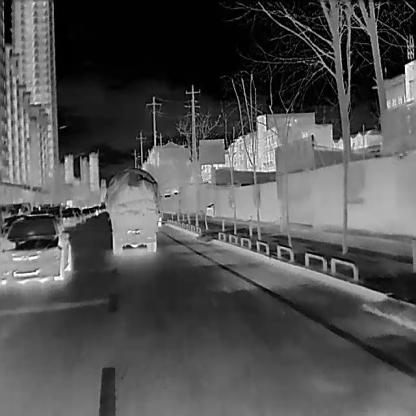car: (0, 212, 71, 284), (60, 207, 76, 226), (206, 201, 216, 217), (81, 207, 91, 218)
truck: (103, 166, 162, 255)
